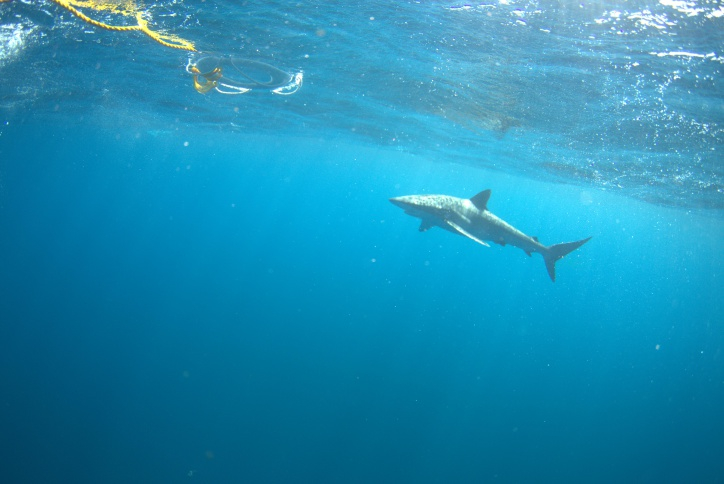Sedoso: (371, 180, 595, 288)
